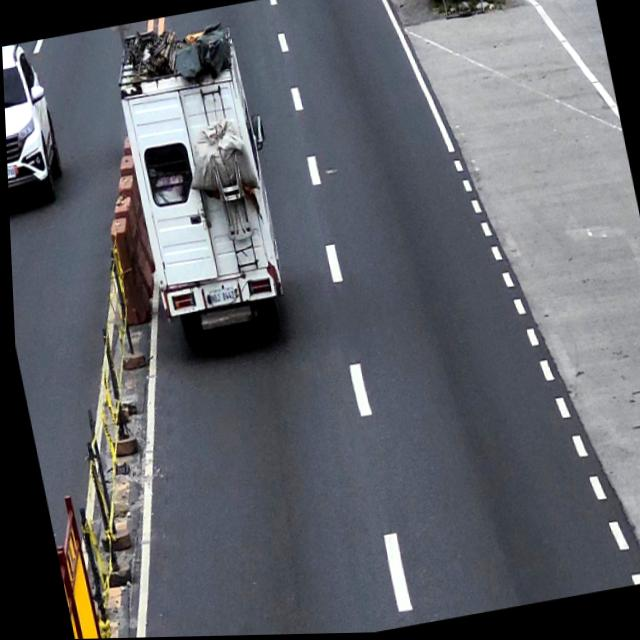Car: (106, 12, 302, 360)
License-Plate: (206, 290, 235, 310)
